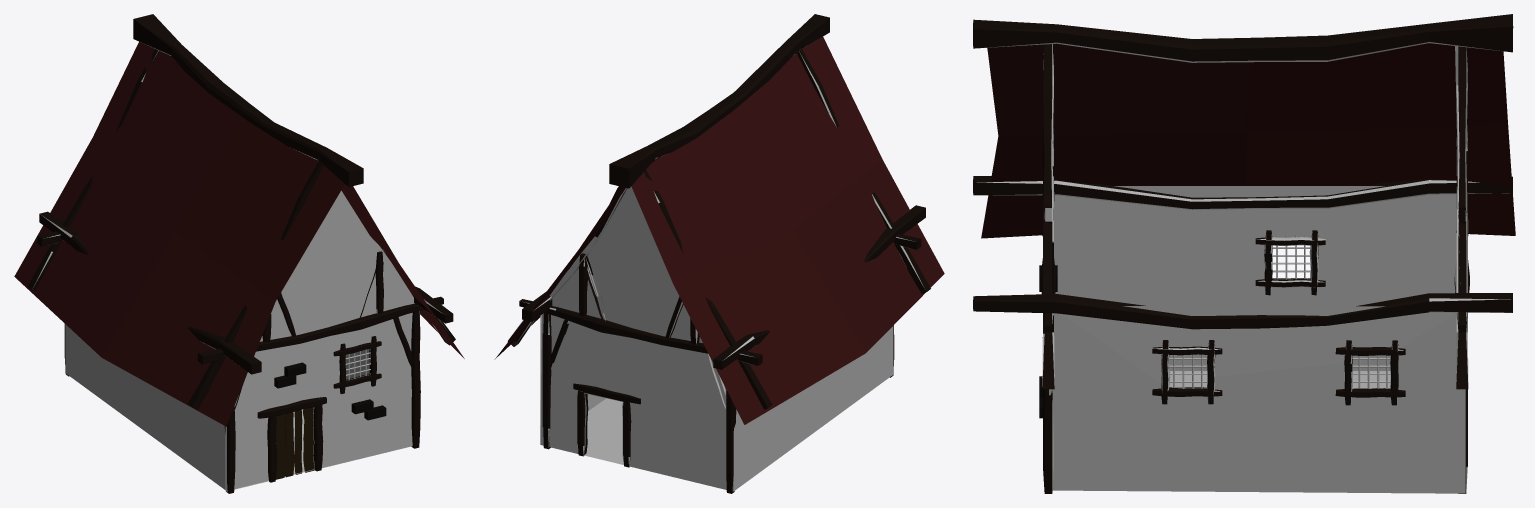
Rendered from home.obj.
3 renders of one model, left to right at view 1: azimuth 30°, elevation 25°; view 2: azimuth 150°, elevation 25°; view 3: azimuth 270°, elevation 25°, orthographic. The views are drawn at different scales.
Parts seen in each view (by area): view 1: Cube, Cube.001; view 2: Cube; view 3: Cube.
Part boxes in pixels (x1,y1,x2,y2): Cube: (14,14,464,493); Cube.001: (275,407,314,479); Cube: (494,14,944,493); Cube: (973,14,1515,493).
Size of the model in its own units: 6.84 by 7.33 by 8.78.
